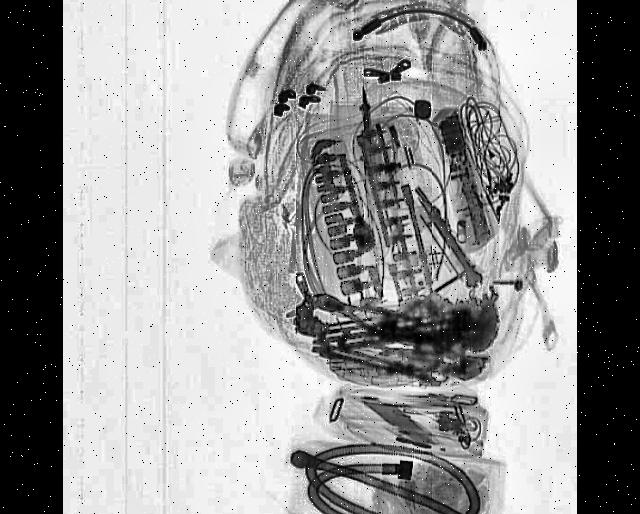Pliers: (309, 284, 413, 352)
Wrench: (424, 205, 486, 294)
